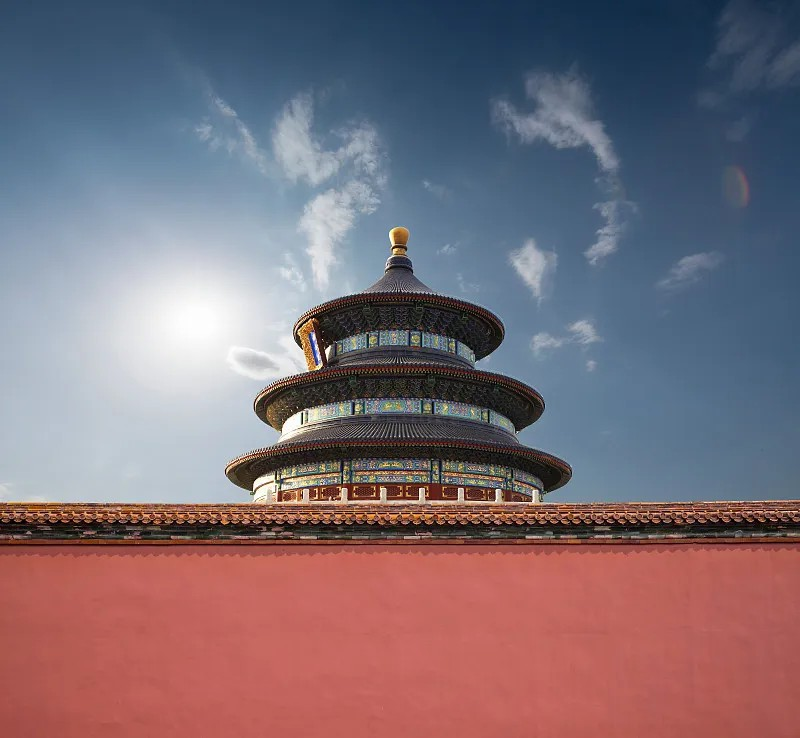Heaven: (222, 227, 573, 502)
